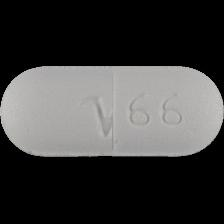0603-2407: (0, 0, 224, 224)
